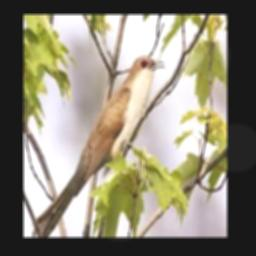Cuckoo: (30, 55, 165, 237)
